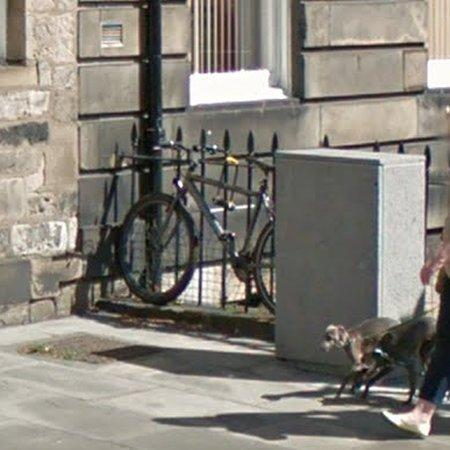bicycles: (119, 145, 275, 312)
